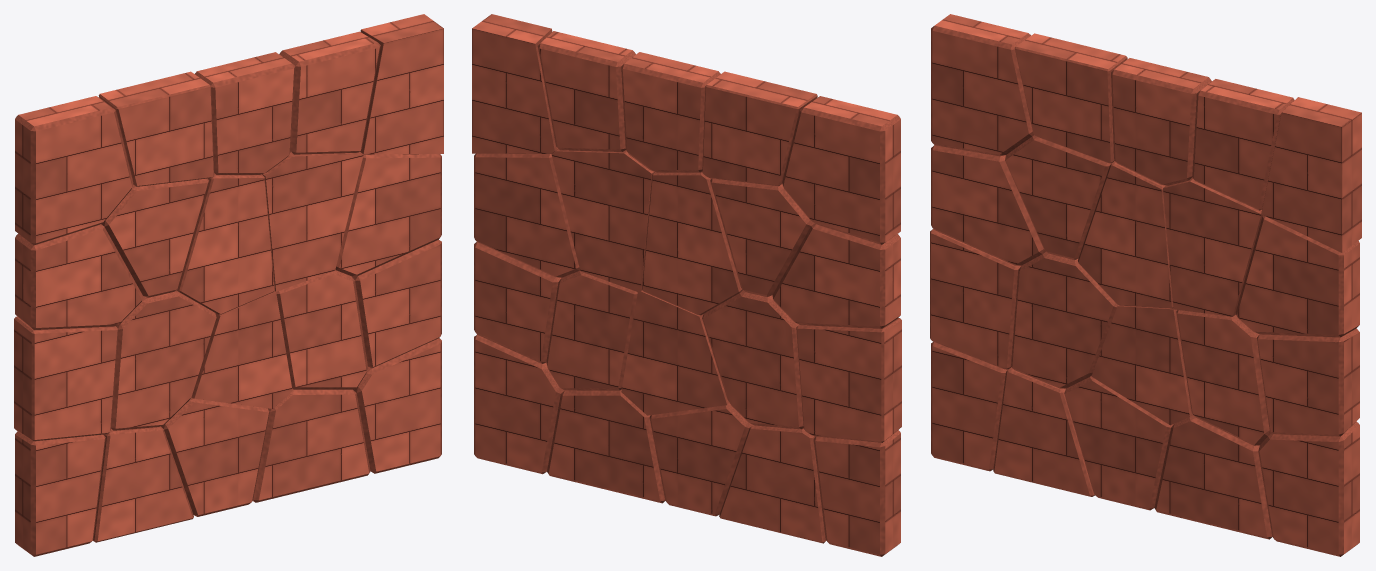
The model's file is Kit_Brick_Wall_Fractured.fbx.
3 views of the same model, side by side, from view 1: azimuth 30°, elevation 25°; view 2: azimuth 150°, elevation 25°; view 3: azimuth 330°, elevation 25° (orthographic).
Parts seen in each view (by area): view 1: Kit_Brick_Wall_frag_04, Kit_Brick_Wall_frag_02, Kit_Brick_Wall_frag_06, Kit_Brick_Wall_frag_03, Kit_Brick_Wall_frag_11, Kit_Brick_Wall_frag_15, Kit_Brick_Wall_frag_20, Kit_Brick_Wall_frag_13, Kit_Brick_Wall_frag_19, Kit_Brick_Wall_frag_08, Kit_Brick_Wall_frag_01, Kit_Brick_Wall_frag_12 (+8 smaller); view 2: Kit_Brick_Wall_frag_04, Kit_Brick_Wall_frag_02, Kit_Brick_Wall_frag_11, Kit_Brick_Wall_frag_15, Kit_Brick_Wall_frag_03, Kit_Brick_Wall_frag_06, Kit_Brick_Wall_frag_20, Kit_Brick_Wall_frag_19, Kit_Brick_Wall_frag_13, Kit_Brick_Wall_frag_08, Kit_Brick_Wall_frag_17, Kit_Brick_Wall_frag_10 (+8 smaller); view 3: Kit_Brick_Wall_frag_20, Kit_Brick_Wall_frag_04, Kit_Brick_Wall_frag_19, Kit_Brick_Wall_frag_17, Kit_Brick_Wall_frag_06, Kit_Brick_Wall_frag_15, Kit_Brick_Wall_frag_13, Kit_Brick_Wall_frag_11, Kit_Brick_Wall_frag_08, Kit_Brick_Wall_frag_18, Kit_Brick_Wall_frag_12, Kit_Brick_Wall_frag_02 (+8 smaller).
Boxes of the visible parts, x1,y1,x2,y2 form: Kit_Brick_Wall_frag_04: [15, 96, 133, 245]; Kit_Brick_Wall_frag_02: [14, 316, 118, 441]; Kit_Brick_Wall_frag_06: [111, 290, 216, 430]; Kit_Brick_Wall_frag_03: [15, 224, 142, 329]; Kit_Brick_Wall_frag_11: [176, 173, 274, 314]; Kit_Brick_Wall_frag_15: [262, 151, 363, 291]; Kit_Brick_Wall_frag_20: [360, 14, 443, 154]; Kit_Brick_Wall_frag_13: [253, 388, 370, 502]; Kit_Brick_Wall_frag_19: [335, 154, 441, 276]; Kit_Brick_Wall_frag_08: [98, 71, 214, 186]; Kit_Brick_Wall_frag_01: [15, 431, 105, 556]; Kit_Brick_Wall_frag_12: [195, 52, 295, 174]; Kit_Brick_Wall_frag_04: [782, 96, 900, 244]; Kit_Brick_Wall_frag_02: [796, 318, 901, 442]; Kit_Brick_Wall_frag_11: [641, 171, 742, 315]; Kit_Brick_Wall_frag_15: [551, 149, 654, 291]; Kit_Brick_Wall_frag_03: [772, 223, 900, 328]; Kit_Brick_Wall_frag_06: [702, 290, 803, 429]; Kit_Brick_Wall_frag_20: [472, 14, 558, 153]; Kit_Brick_Wall_frag_19: [474, 153, 579, 277]; Kit_Brick_Wall_frag_13: [547, 389, 665, 503]; Kit_Brick_Wall_frag_08: [702, 71, 817, 186]; Kit_Brick_Wall_frag_17: [474, 335, 564, 474]; Kit_Brick_Wall_frag_10: [621, 290, 728, 415]; Kit_Brick_Wall_frag_20: [1261, 97, 1361, 252]; Kit_Brick_Wall_frag_04: [931, 14, 1033, 156]; Kit_Brick_Wall_frag_19: [1235, 215, 1359, 337]; Kit_Brick_Wall_frag_17: [1258, 421, 1359, 556]; Kit_Brick_Wall_frag_06: [1011, 251, 1118, 388]; Kit_Brick_Wall_frag_15: [1163, 177, 1263, 316]; Kit_Brick_Wall_frag_13: [1154, 415, 1272, 539]; Kit_Brick_Wall_frag_11: [1078, 161, 1173, 308]; Kit_Brick_Wall_frag_08: [1014, 33, 1127, 163]; Kit_Brick_Wall_frag_18: [1256, 328, 1359, 436]; Kit_Brick_Wall_frag_12: [1111, 58, 1211, 185]; Kit_Brick_Wall_frag_02: [930, 229, 1020, 369].
Size of what is drawn, in the model's own units: 3 by 3 by 0.25.
2 materials, 2 textured.
